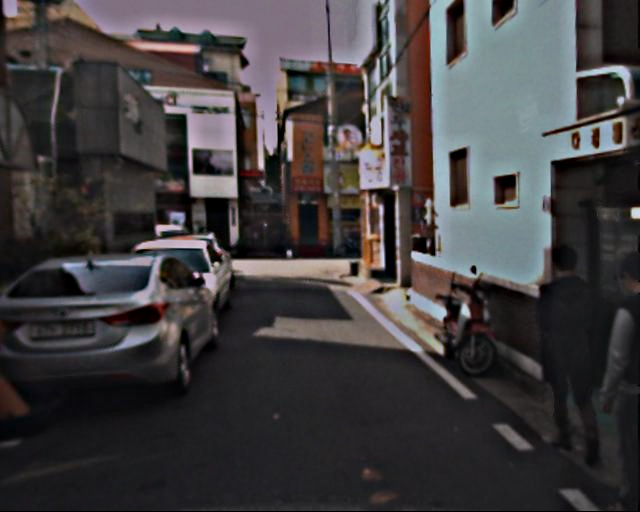person: (524, 244, 615, 460), (573, 250, 640, 508)
